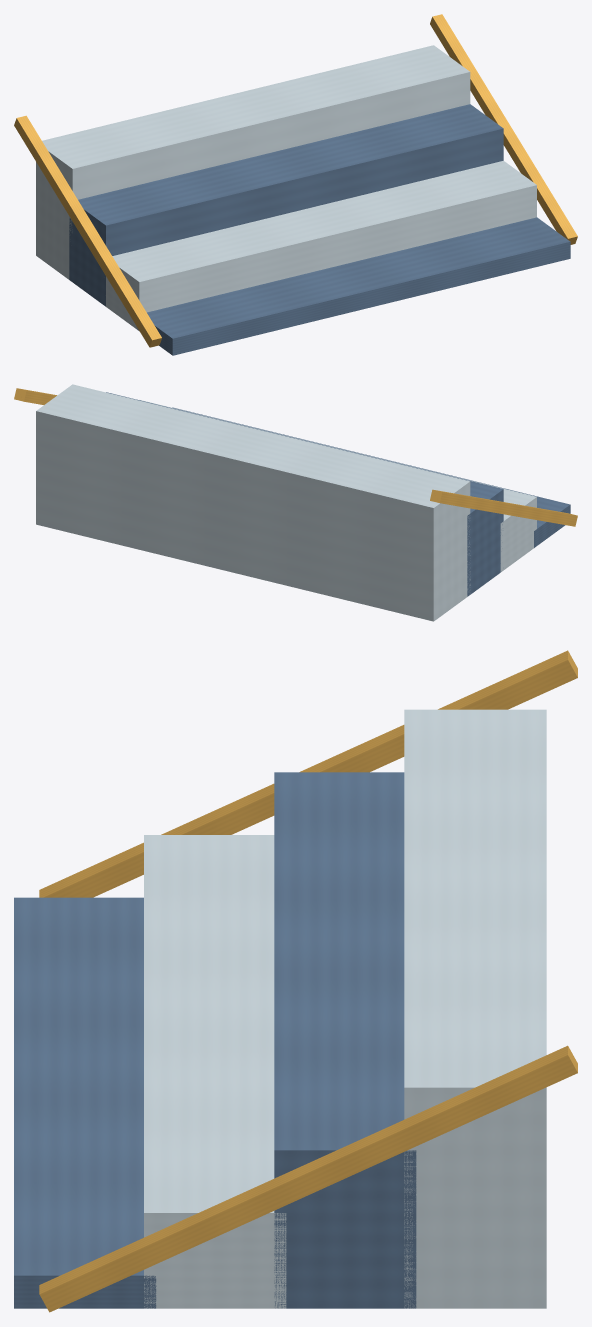
Rendered from atlas100-s051-a10.glb.
3 views of the same model, one above another, from view 1: azimuth 30°, elevation 25°; view 2: azimuth 150°, elevation 25°; view 3: azimuth 270°, elevation 25° (orthographic). The views are drawn at different scales.
Parts seen in each view (by area): view 1: atlas100-s051-a10:part-003, atlas100-s051-a10:part-002, atlas100-s051-a10:part-001, atlas100-s051-a10:part-000, atlas100-s051-a10:part-004, atlas100-s051-a10:part-005; view 2: atlas100-s051-a10:part-003, atlas100-s051-a10:part-002, atlas100-s051-a10:part-001, atlas100-s051-a10:part-004, atlas100-s051-a10:part-000, atlas100-s051-a10:part-005; view 3: atlas100-s051-a10:part-003, atlas100-s051-a10:part-002, atlas100-s051-a10:part-001, atlas100-s051-a10:part-000, atlas100-s051-a10:part-005, atlas100-s051-a10:part-004.
Boxes of the visible parts, bbox=[...] form: atlas100-s051-a10:part-003: bbox=[36, 45, 470, 279]; atlas100-s051-a10:part-002: bbox=[69, 104, 503, 306]; atlas100-s051-a10:part-001: bbox=[106, 160, 536, 330]; atlas100-s051-a10:part-000: bbox=[137, 217, 570, 355]; atlas100-s051-a10:part-004: bbox=[14, 115, 161, 347]; atlas100-s051-a10:part-005: bbox=[430, 14, 577, 244]; atlas100-s051-a10:part-003: bbox=[36, 384, 470, 621]; atlas100-s051-a10:part-002: bbox=[106, 392, 503, 596]; atlas100-s051-a10:part-001: bbox=[139, 400, 536, 572]; atlas100-s051-a10:part-004: bbox=[430, 489, 577, 526]; atlas100-s051-a10:part-000: bbox=[172, 407, 570, 547]; atlas100-s051-a10:part-005: bbox=[14, 388, 56, 404]; atlas100-s051-a10:part-003: bbox=[404, 709, 546, 1308]; atlas100-s051-a10:part-002: bbox=[274, 772, 416, 1308]; atlas100-s051-a10:part-001: bbox=[144, 835, 286, 1308]; atlas100-s051-a10:part-000: bbox=[14, 897, 156, 1308]; atlas100-s051-a10:part-005: bbox=[39, 1045, 577, 1312]; atlas100-s051-a10:part-004: bbox=[39, 650, 577, 897].
Bounding box in the file's own units: 2.36 × 0.7246 × 1.39.
Materials: 3 (3 with a texture image).
